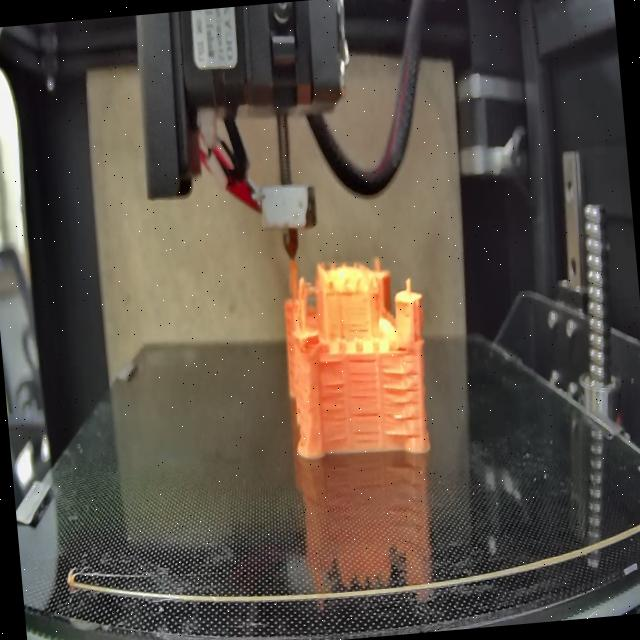cracks: (379, 370, 424, 440), (314, 380, 350, 442), (348, 356, 380, 404), (348, 410, 382, 443), (343, 317, 372, 336), (318, 350, 342, 370), (392, 340, 411, 358)
